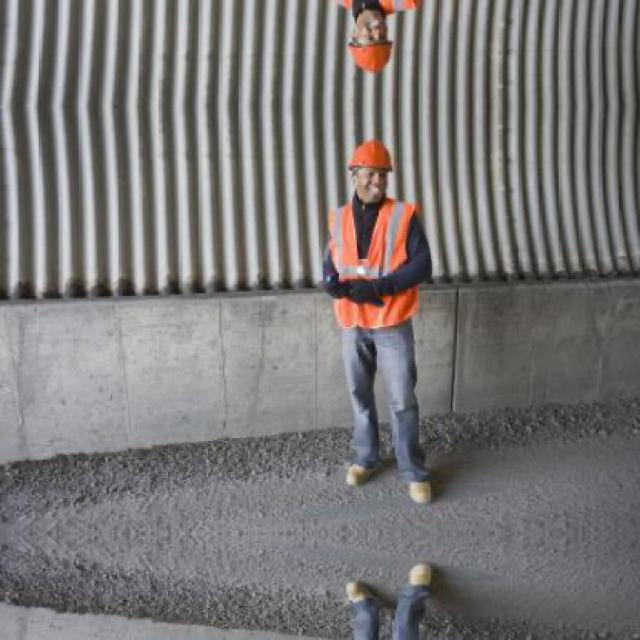helmet: (345, 9, 400, 82), (345, 133, 400, 205)
